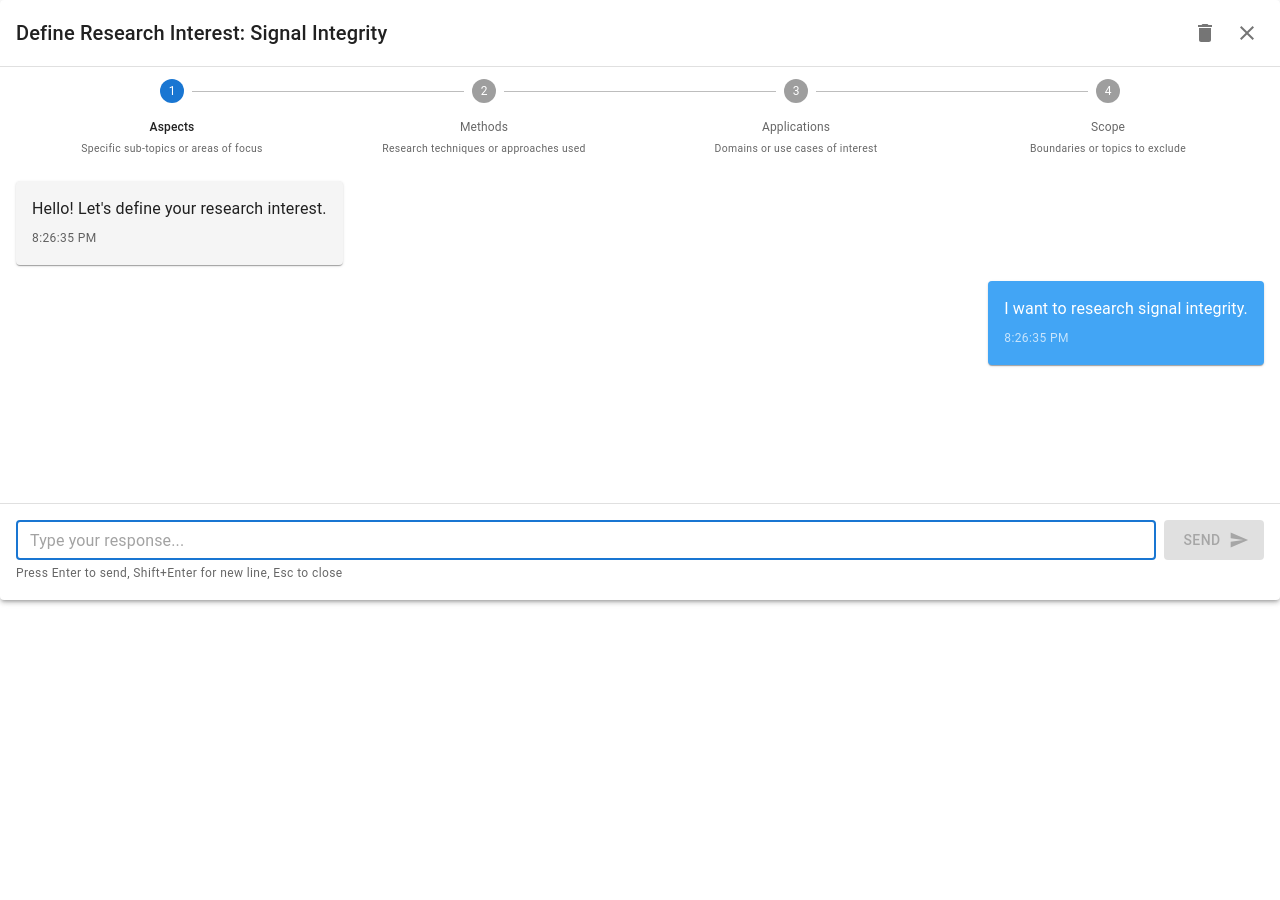
ChatbotUI Accessibility › Conversation History Deletion (Task 15.1) › should open confirmation dialog when delete button is clicked
The width and height of the screenshot is (1280, 900).
Click the button named "Delete conversation history".
click(1205, 33)  # box [1188,16,1222,50]
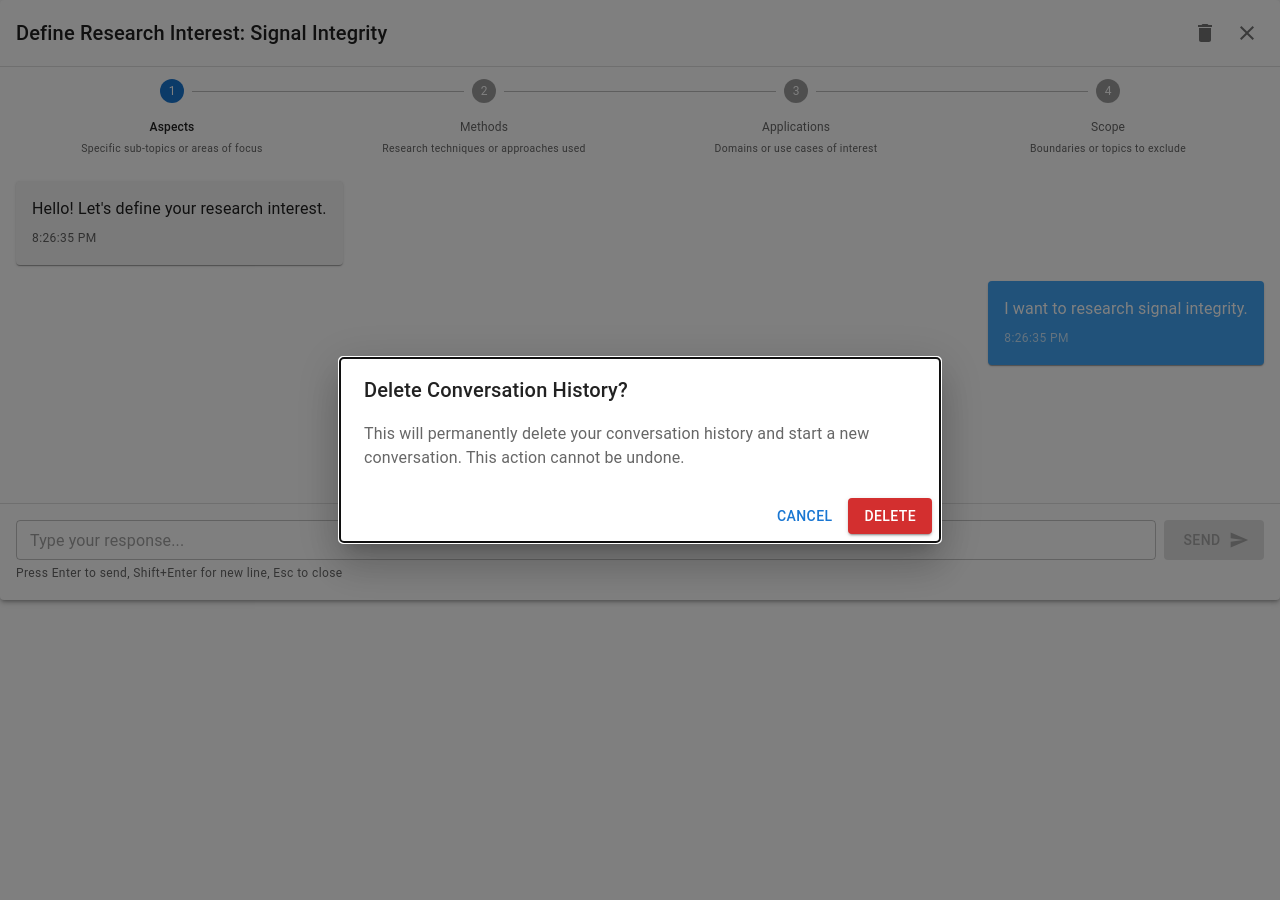
Now the heading "Delete Conversation History?" is shown, box [364,378,628,402]
Now the text "This will permanently delete your conversation history" is shown, box [364,424,869,467]
